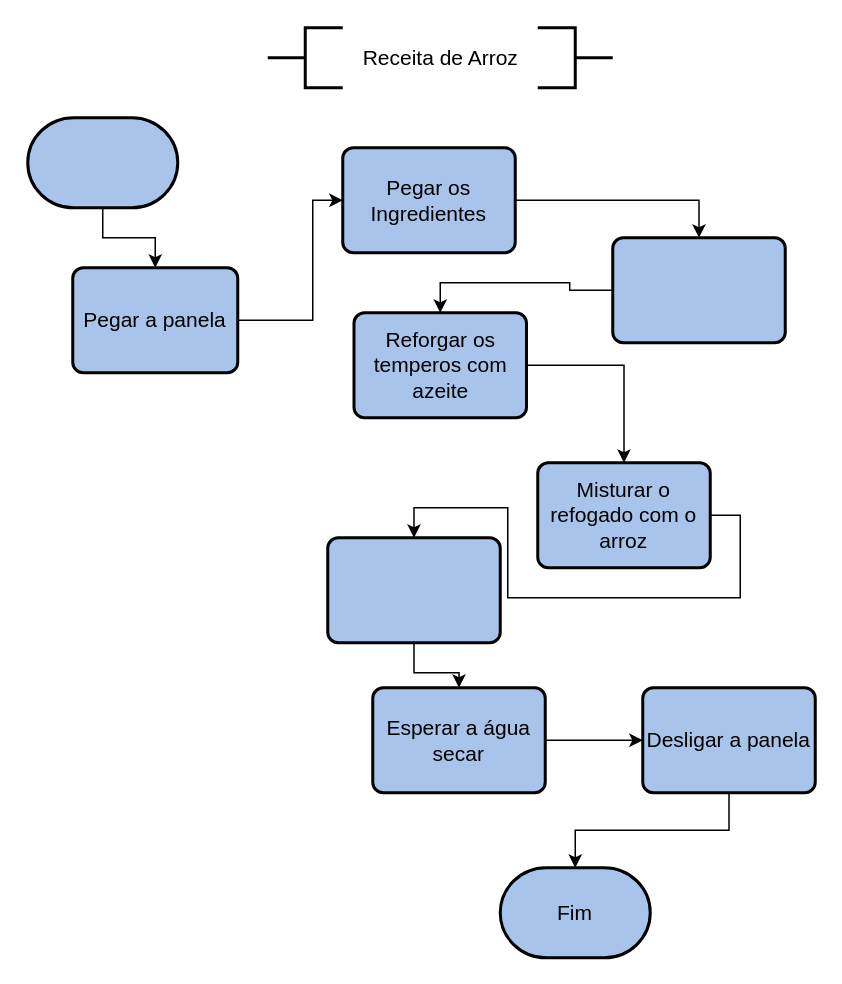
Some shapes in this 842 by 984 pixel diagram are drawn without their labels. The box of each missing label's shape, as (x1, y1, x2, y2) in pixels:
Adicionar água o suficiente e sal: (326, 536, 501, 644)
Início: (26, 116, 178, 208)
Ligar panela: (610, 236, 786, 344)
